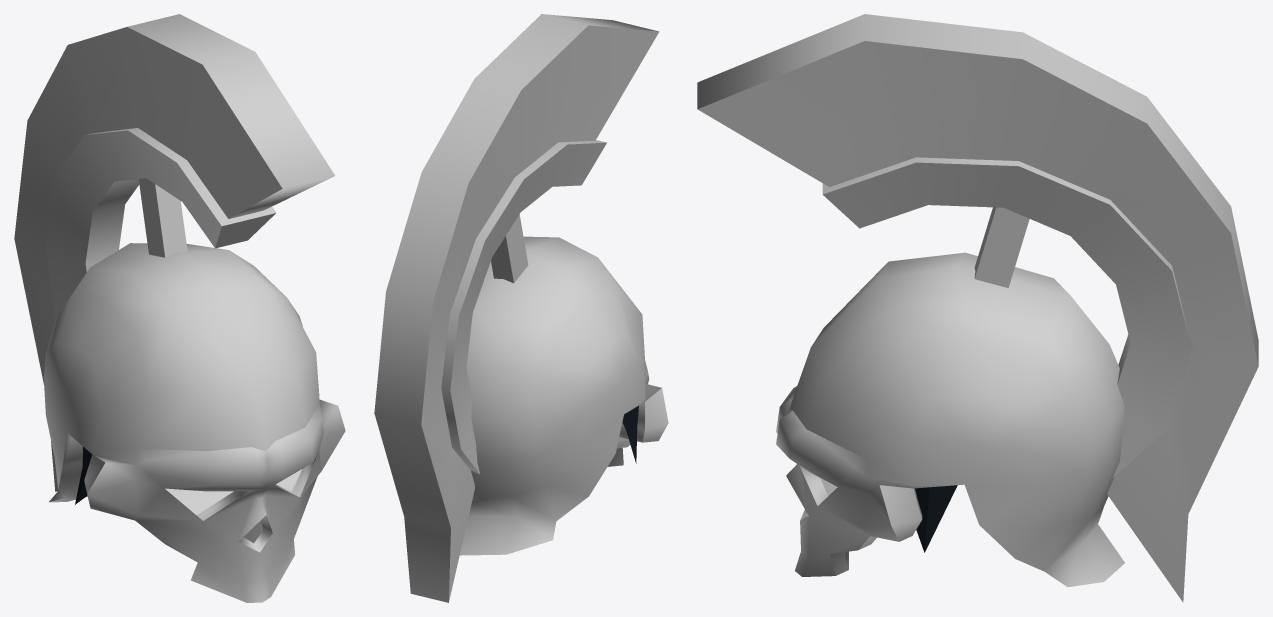
The model's file is MorsHelmet1.fbx.
The picture shows the model from 3 angles, left to right: view 1: azimuth 30°, elevation 25°; view 2: azimuth 150°, elevation 25°; view 3: azimuth 270°, elevation 25°; orthographic projection. The views are drawn at different scales.
Parts seen in each view (by area): view 1: MorsHelmet1; view 2: MorsHelmet1, Hair; view 3: MorsHelmet1, Hair.
Boxes of the visible parts, x1,y1,x2,y2 form: MorsHelmet1: [14, 14, 345, 602]; MorsHelmet1: [374, 14, 668, 602]; Hair: [622, 406, 638, 463]; MorsHelmet1: [697, 14, 1258, 602]; Hair: [915, 485, 957, 552].
Size of the model in its own units: 56.19 by 112 by 101.
